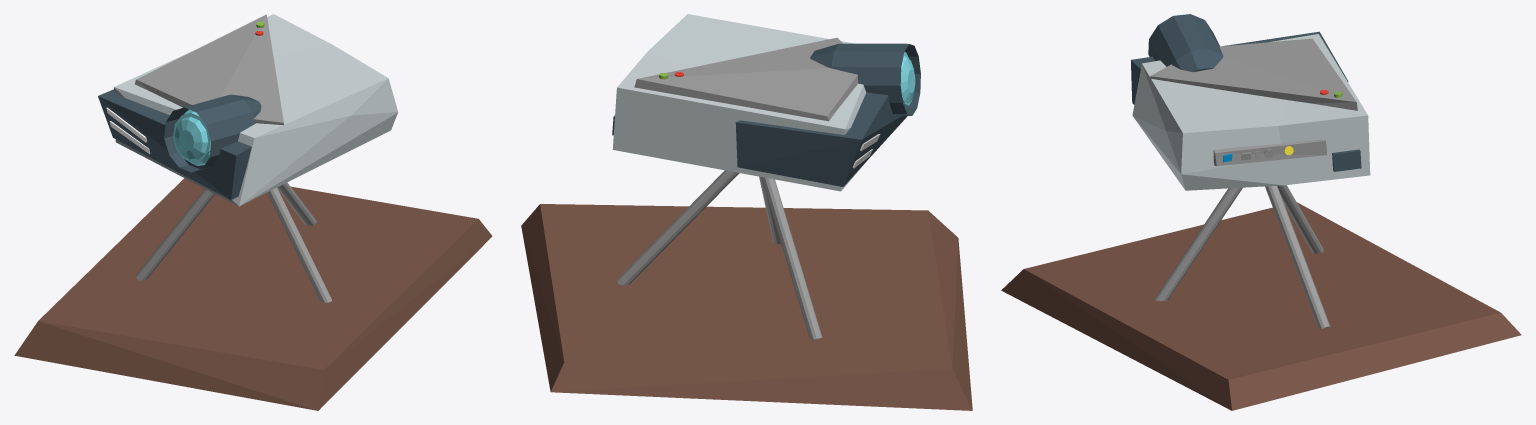
File: projector.glb
3 views of the same model, side by side, from view 1: azimuth 30°, elevation 25°; view 2: azimuth 150°, elevation 25°; view 3: azimuth 270°, elevation 25° (orthographic). The views are drawn at different scales.
Parts seen in each view (by area): view 1: group489012986, group438710673; view 2: group489012986, group438710673; view 3: group489012986, group438710673.
Boxes of the visible parts, bbox=[...] form: group489012986: bbox=[14, 178, 492, 410]; group438710673: bbox=[98, 14, 398, 302]; group489012986: bbox=[521, 204, 972, 410]; group438710673: bbox=[612, 14, 920, 340]; group489012986: bbox=[1001, 202, 1521, 410]; group438710673: bbox=[1131, 14, 1370, 328].
Size of the model in its own units: 0.5648 by 0.3149 by 0.5547.
